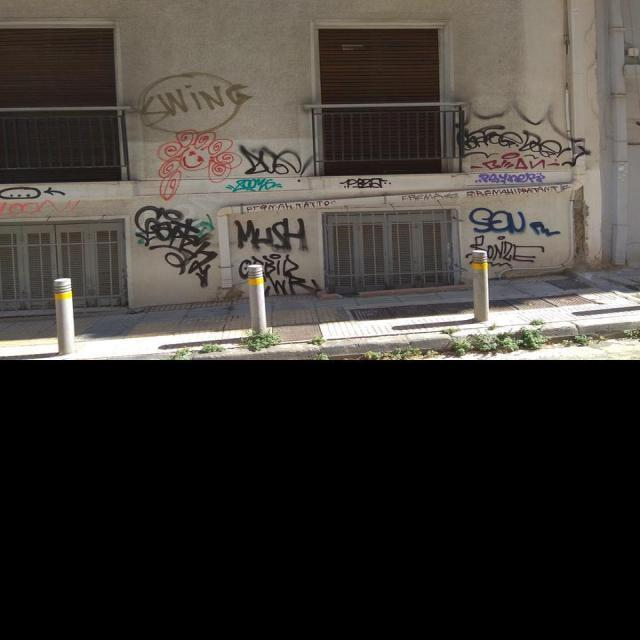nonspitting: (454, 114, 592, 166), (136, 73, 252, 134), (134, 205, 217, 288), (156, 129, 243, 201), (239, 254, 321, 296), (469, 208, 562, 236), (234, 218, 308, 252), (465, 235, 545, 266), (239, 144, 307, 177), (470, 152, 560, 169), (0, 200, 82, 217), (466, 185, 572, 197), (246, 201, 330, 212), (1, 187, 67, 200), (226, 178, 281, 192), (474, 173, 544, 184), (339, 178, 392, 189), (400, 193, 460, 202)
